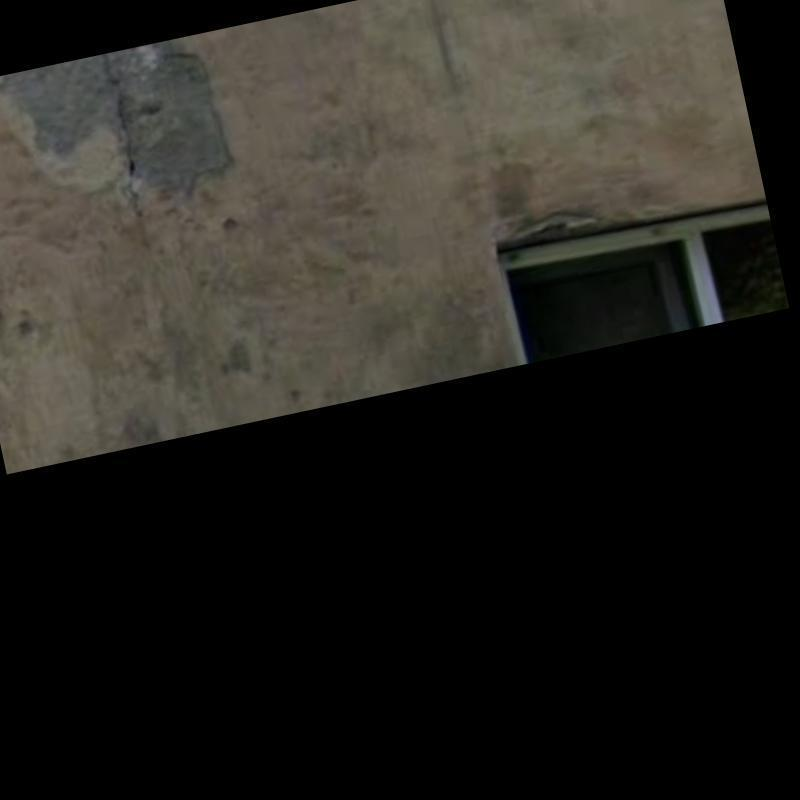pothole: (104, 53, 143, 217)
